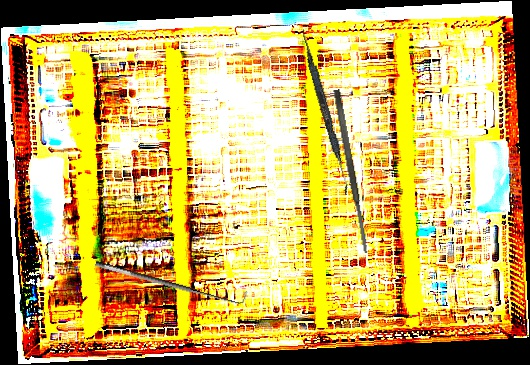Hook Surgical: (94, 249, 248, 311)
Spatula Surgical: (295, 28, 356, 196), (332, 88, 370, 255)
